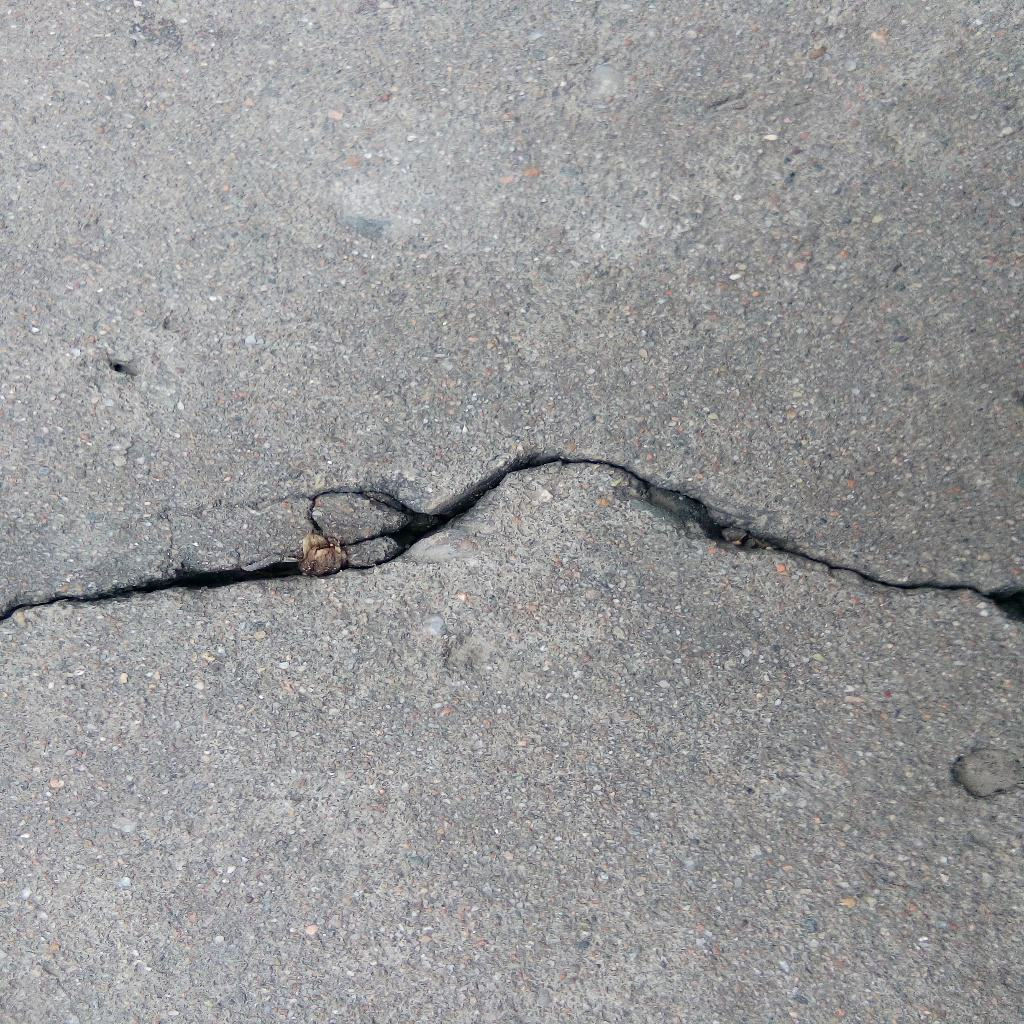Crack: (1, 446, 1024, 627)
